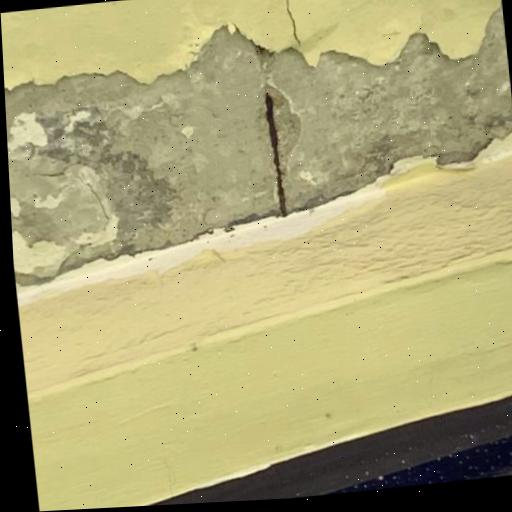exposed_rebar: (265, 93, 287, 216)
spalling: (5, 6, 512, 284)
